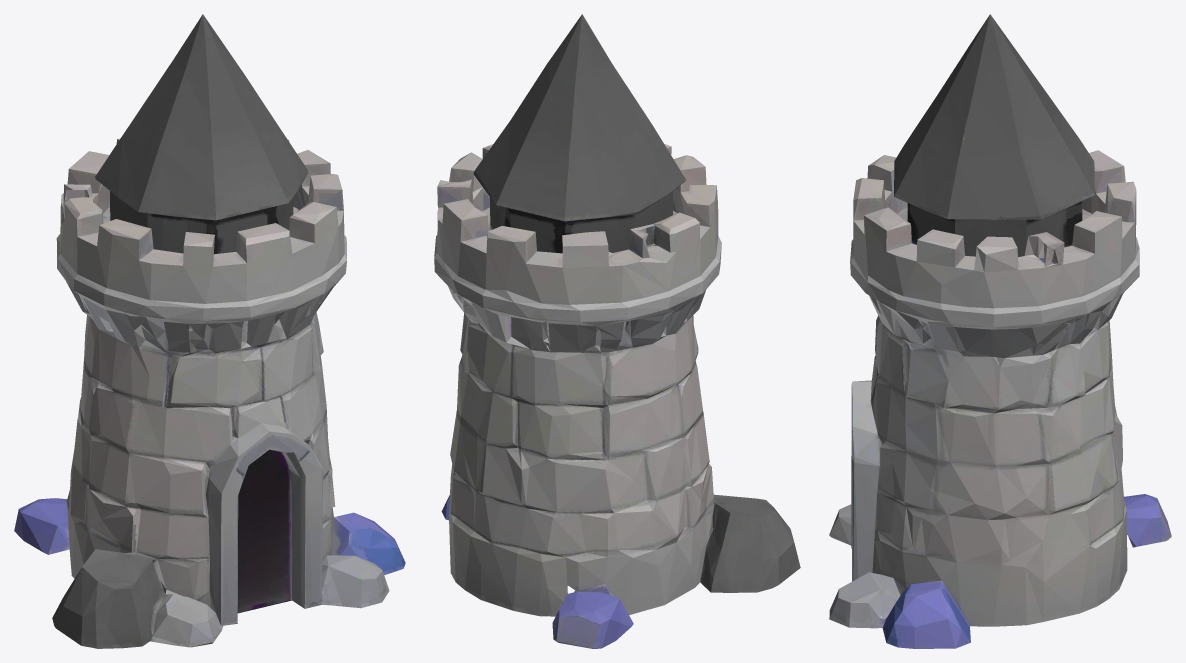
Rendered from stone_watchtower_1.glb.
3 views of the same model, side by side, from view 1: azimuth 30°, elevation 25°; view 2: azimuth 150°, elevation 25°; view 3: azimuth 270°, elevation 25° (orthographic).
Bounding box in the file's own units: 1.24 × 1.98 × 1.1.
1 material, 1 textured.
